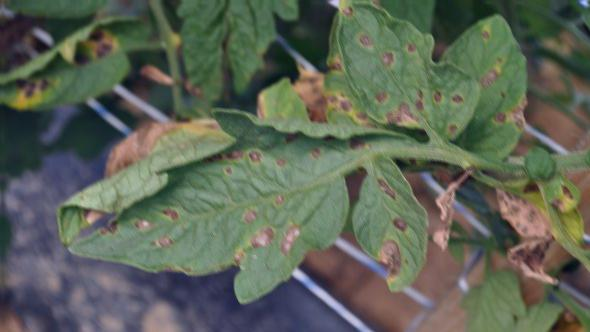Tomato Septoria leaf spot: (54, 102, 388, 305), (318, 3, 476, 143), (345, 152, 434, 290)
